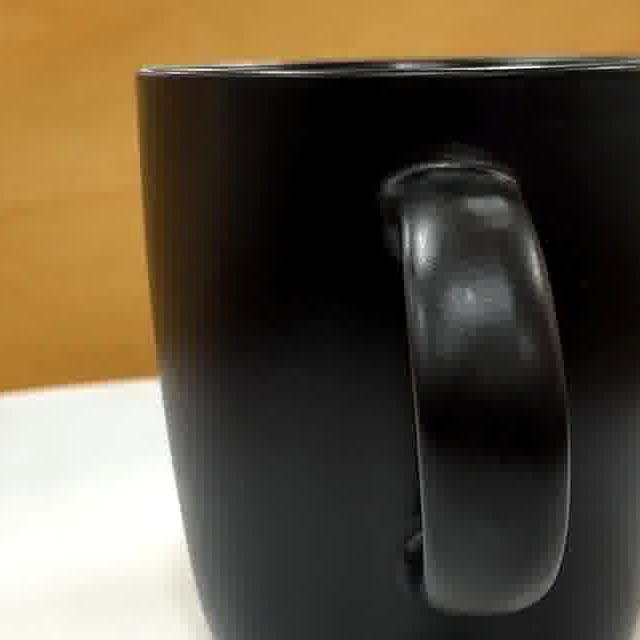cup: (143, 62, 640, 640)
